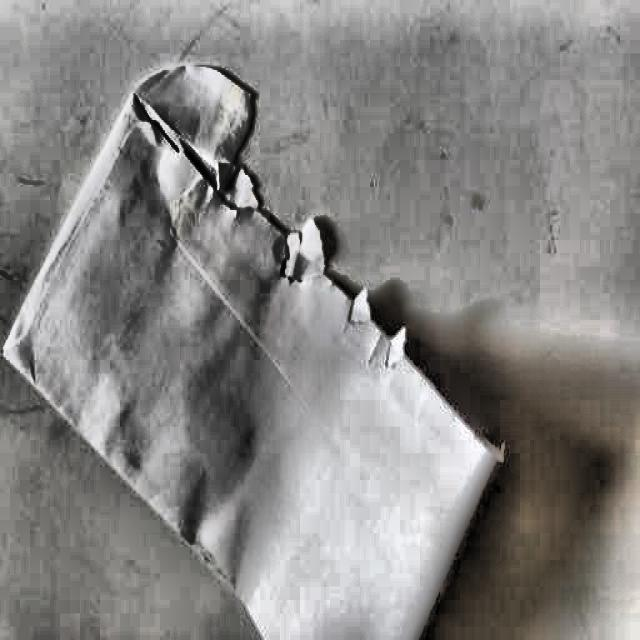paper: (4, 62, 507, 630)
